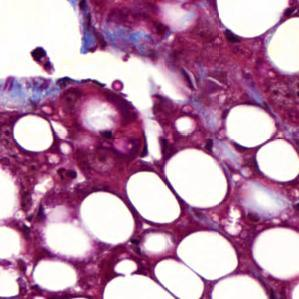steatosis: (162, 146, 231, 208), (79, 190, 134, 248), (13, 116, 61, 154)
